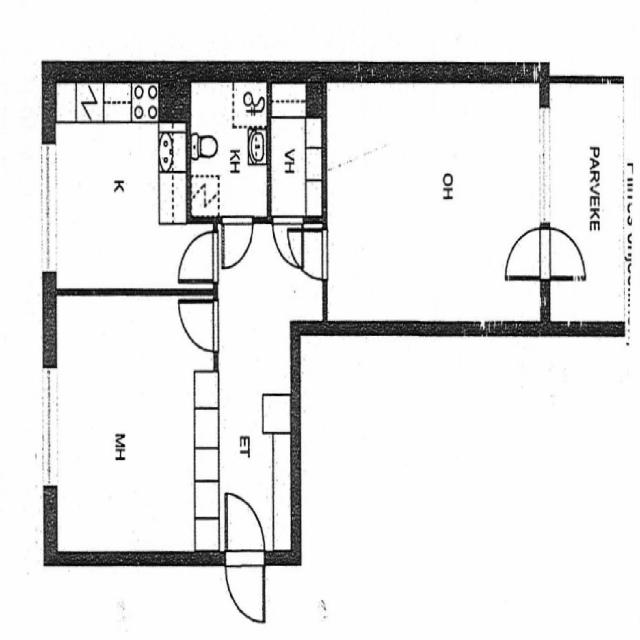door: (220, 488, 270, 627), (499, 222, 556, 281), (175, 296, 219, 356), (545, 227, 591, 282), (219, 215, 254, 272), (272, 220, 305, 272)
window: (35, 137, 63, 284), (36, 360, 62, 494), (532, 100, 555, 232)
zone: (323, 80, 546, 330), (50, 292, 221, 561), (48, 110, 195, 292), (188, 75, 270, 220), (268, 76, 323, 222), (528, 225, 592, 281), (174, 228, 218, 286), (288, 226, 325, 282)
